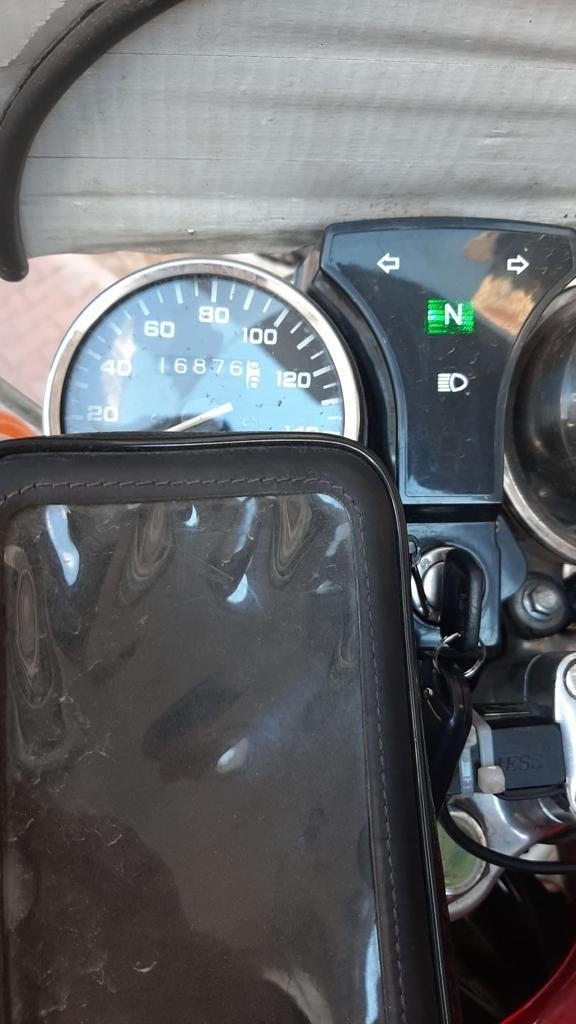1: (159, 356, 165, 374)
5: (248, 357, 261, 369)
6: (229, 359, 243, 376), (174, 357, 187, 373), (248, 374, 259, 390)
7: (211, 357, 224, 374)
8: (192, 357, 206, 374)
odometer: (152, 354, 263, 392)
